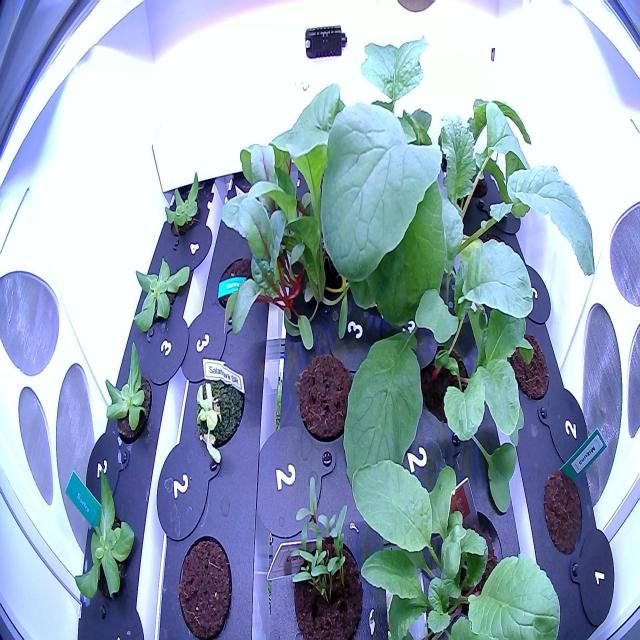germination: (271, 469, 369, 640)
pod: (173, 525, 236, 639), (294, 344, 359, 450), (536, 462, 590, 562), (502, 325, 554, 411), (212, 248, 264, 326)
young: (66, 462, 145, 611), (188, 350, 252, 474), (96, 336, 160, 446), (125, 244, 198, 338), (161, 161, 205, 247)
